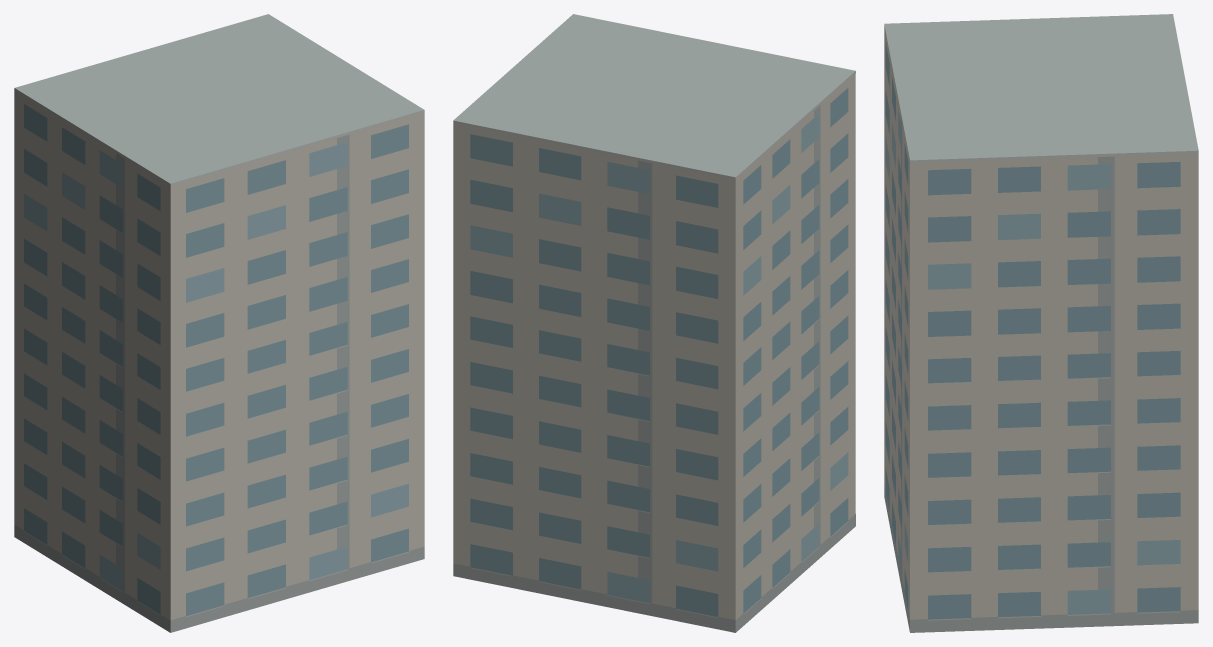
The model's file is residential-a4f90934-7630-46f1-bfca-4143f0b68dd2.glb.
The picture shows the model from 3 angles, left to right: view 1: azimuth 30°, elevation 25°; view 2: azimuth 150°, elevation 25°; view 3: azimuth 270°, elevation 25°; orthographic projection. The views are drawn at different scales.
Visible parts, largest first — view 1: residential-a4f90934-7630-46f1-bfca-4143f0b68dd2.tmp; view 2: residential-a4f90934-7630-46f1-bfca-4143f0b68dd2.tmp; view 3: residential-a4f90934-7630-46f1-bfca-4143f0b68dd2.tmp.
Boxes of the visible parts, box(x1,y1,x2,y2) form: residential-a4f90934-7630-46f1-bfca-4143f0b68dd2.tmp: box(14, 14, 424, 632); residential-a4f90934-7630-46f1-bfca-4143f0b68dd2.tmp: box(453, 14, 855, 632); residential-a4f90934-7630-46f1-bfca-4143f0b68dd2.tmp: box(884, 14, 1198, 632).
Bounding box in the file's own units: 25.26 × 38 × 22.93.
